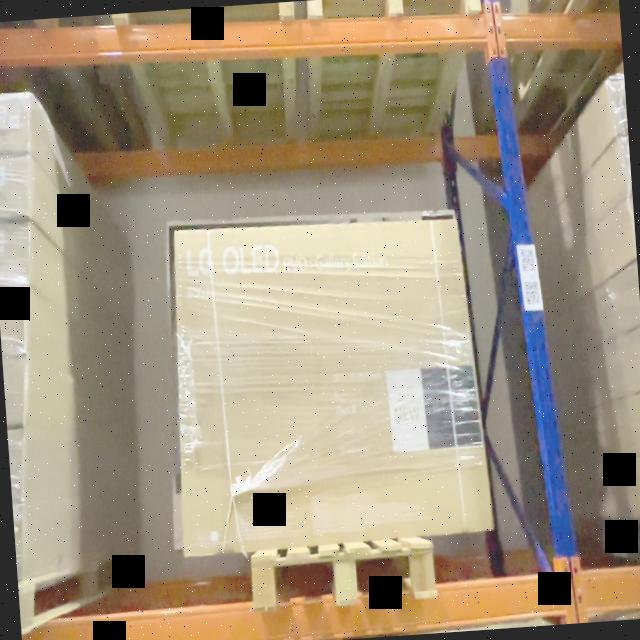box: (174, 214, 477, 546)
